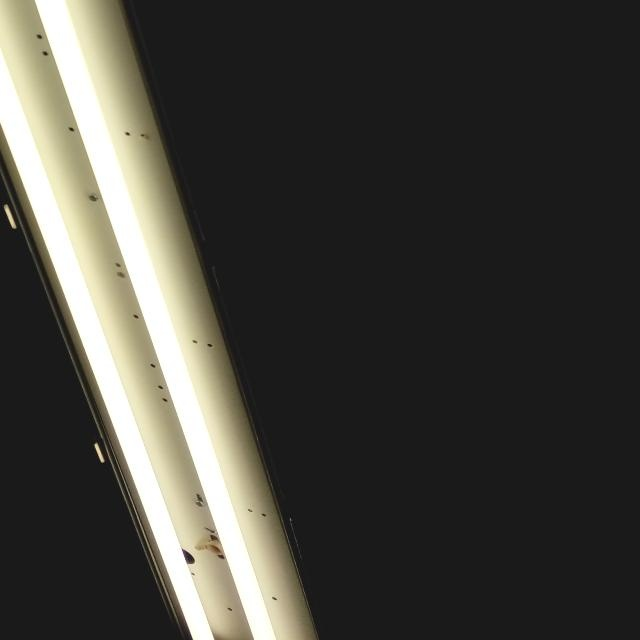fluorescent tube: (0, 0, 345, 640), (0, 0, 246, 640)
